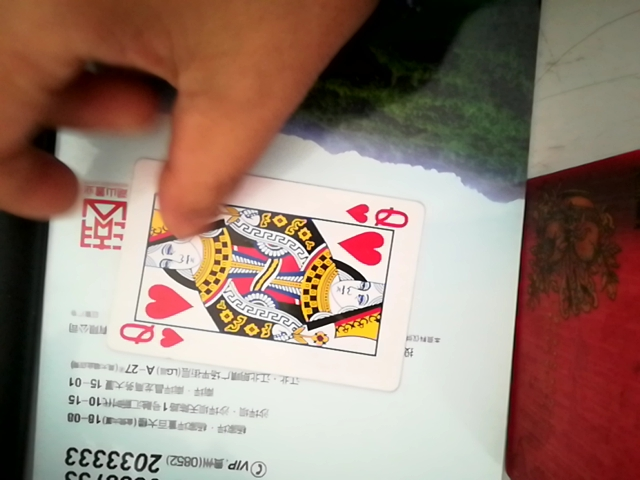hx q: (78, 175, 447, 381)
